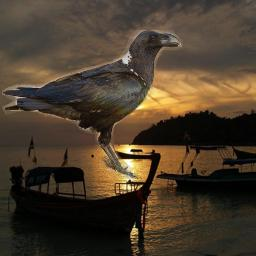Crow: (2, 30, 183, 179)
